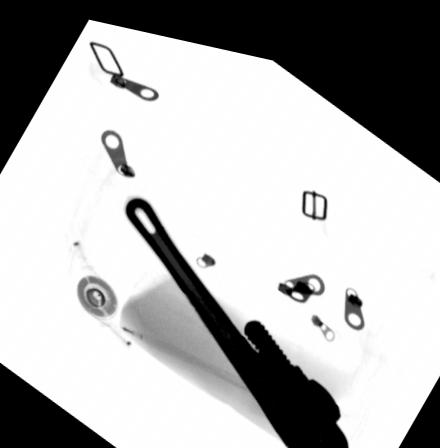Wrench: (122, 190, 350, 448)
